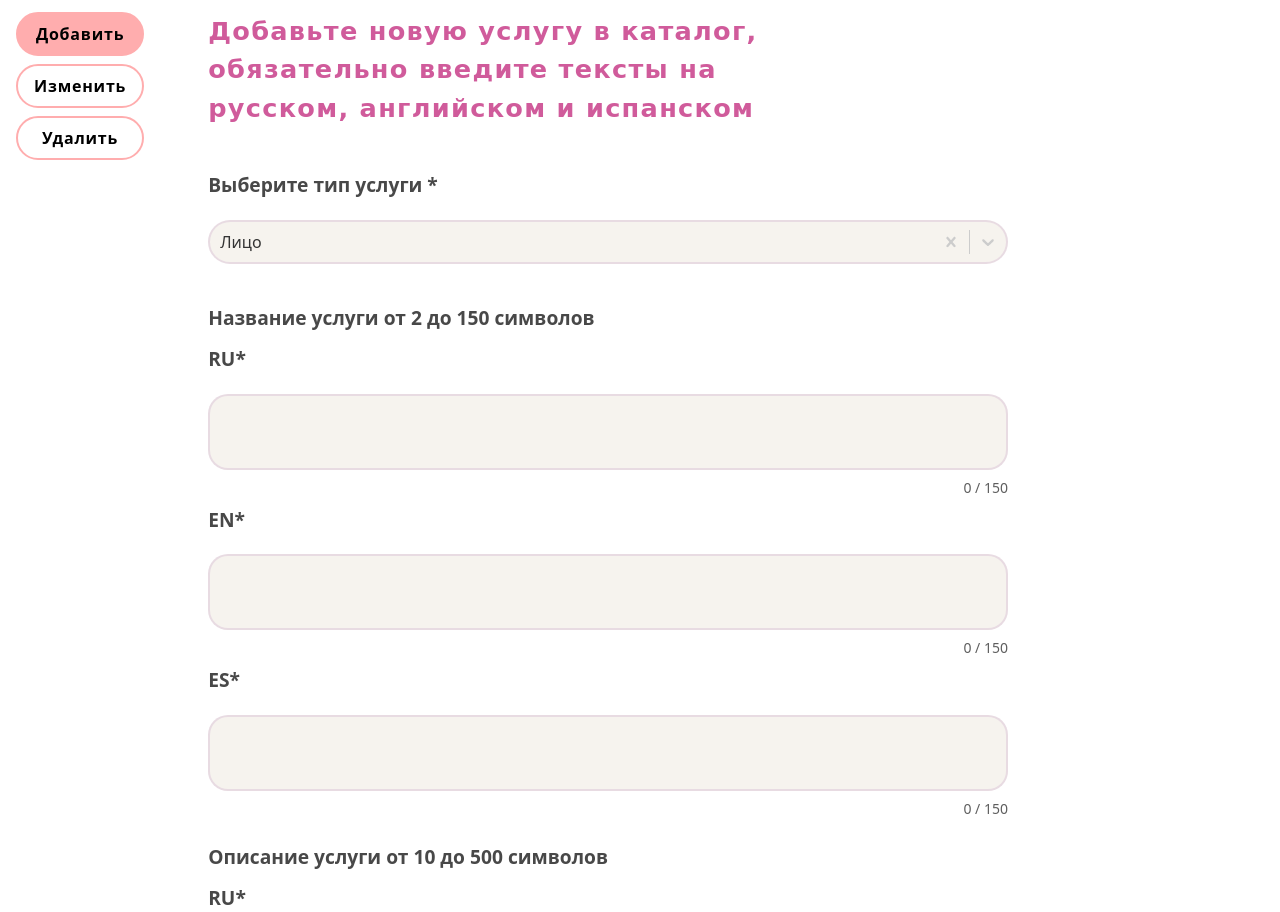
Test: DashboardPanel — change-service form › finds a service by its name in any language
Click the button "Изменить": [80, 86] box [16,64,144,108]
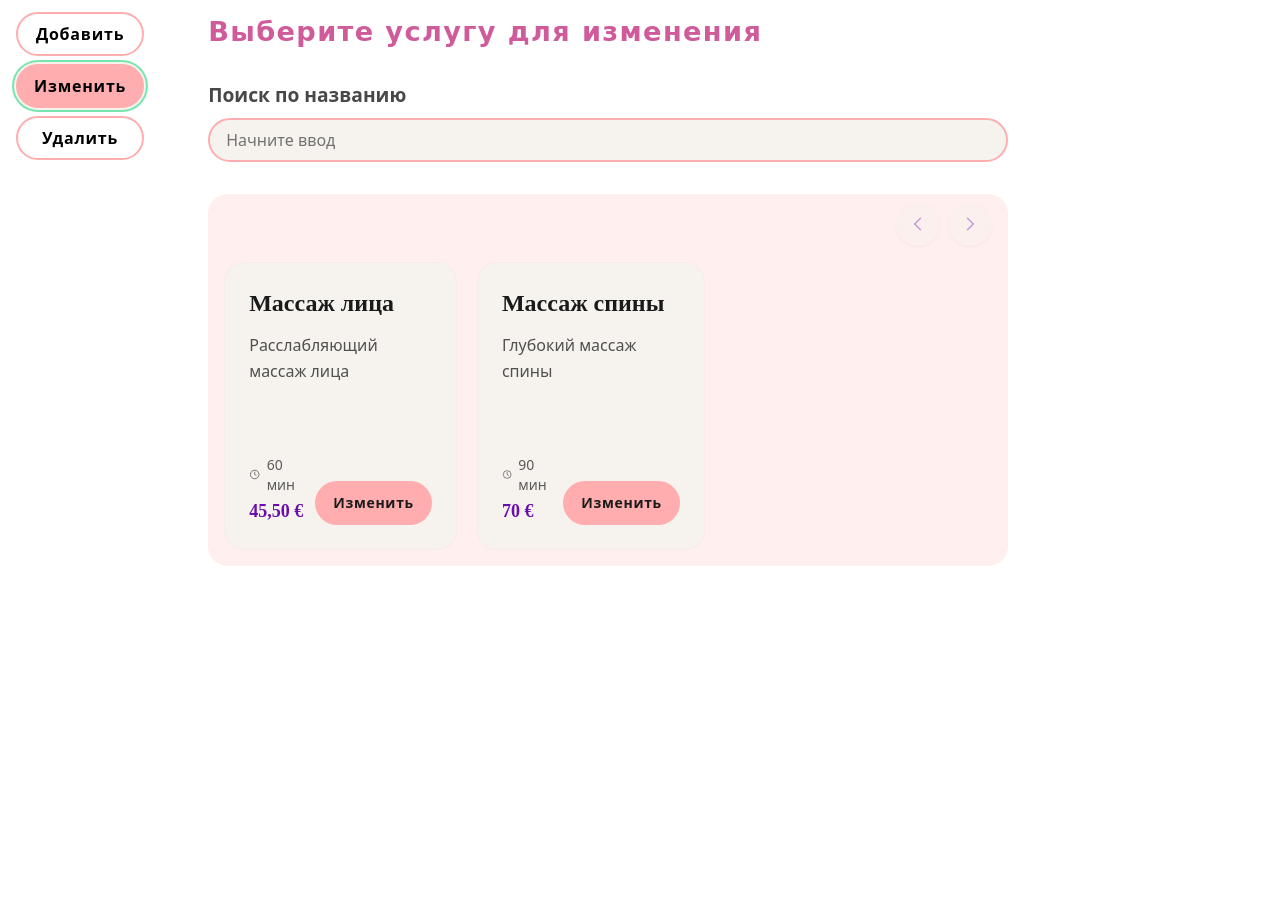
In the search field with test id "service-search": [608, 140] box [208,118,1008,162], type "back"
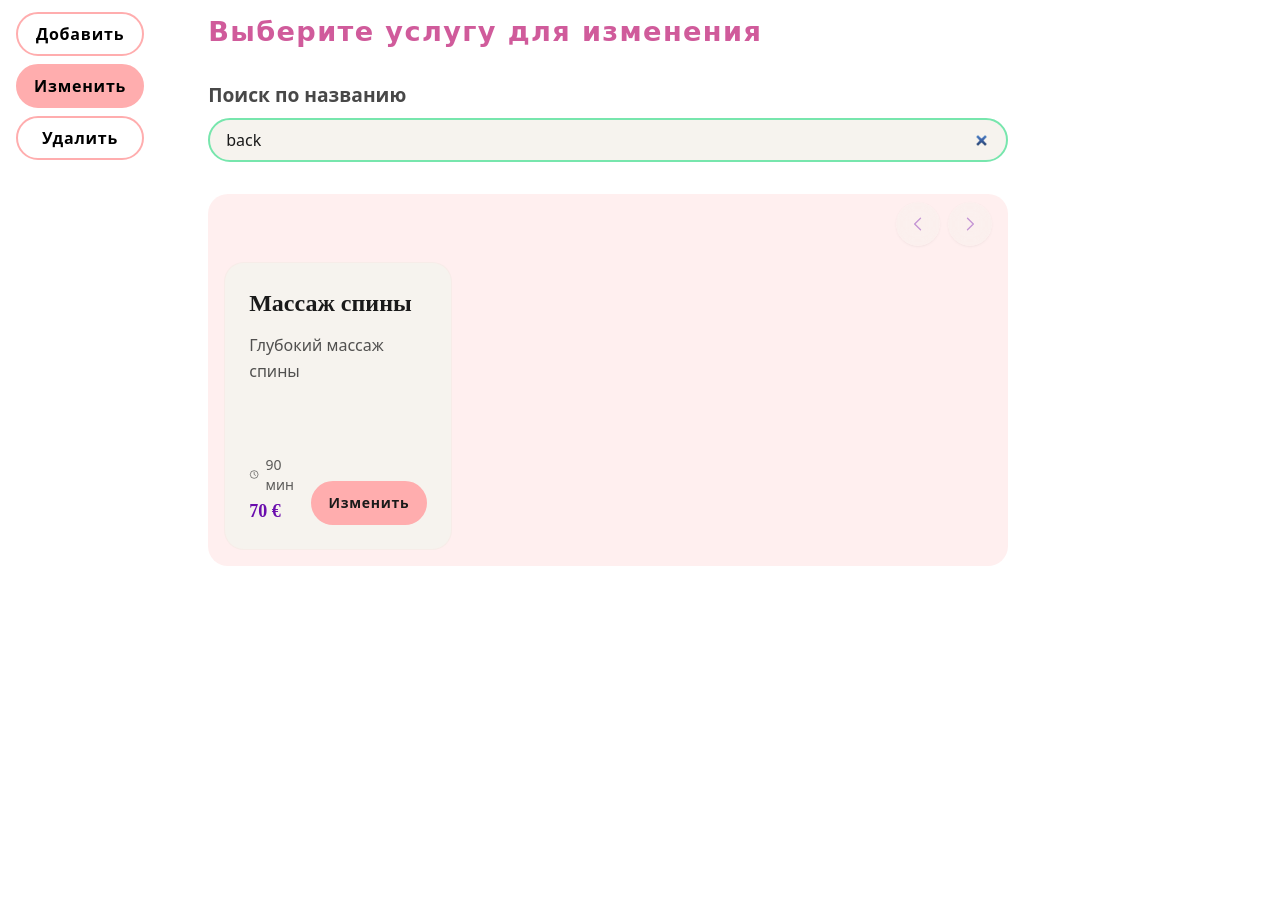
expect the heading "Массаж спины" is shown: met, box [249,287,427,320]
expect the text "Массаж лица" is gone: met
